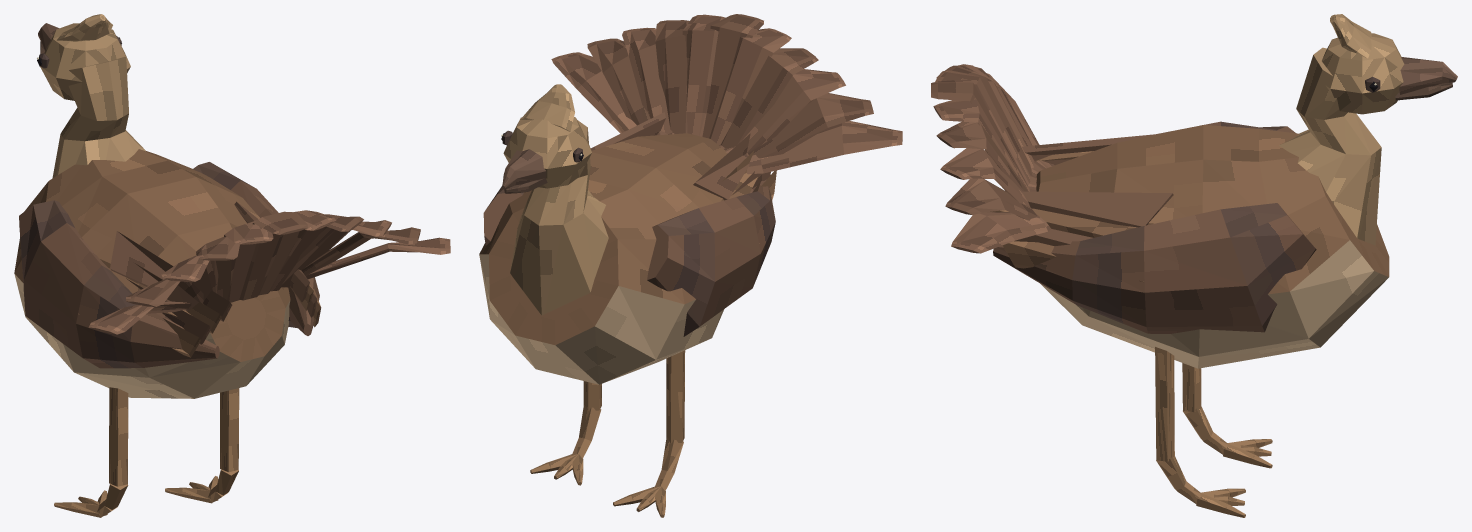
The model's file is mon_grouse.glb.
3 renders of one model, left to right at view 1: azimuth 30°, elevation 25°; view 2: azimuth 150°, elevation 25°; view 3: azimuth 270°, elevation 25°, orthographic. The views are drawn at different scales.
Parts seen in each view (by area): view 1: closed_body; view 2: closed_body; view 3: closed_body.
Part boxes in pixels (x1,y1,x2,y2): closed_body: [14, 14, 450, 517]; closed_body: [479, 14, 902, 517]; closed_body: [931, 14, 1457, 517].
Bounding box in the file's own units: 0.2284 × 0.2726 × 0.2785.
1 material, 1 textured.
